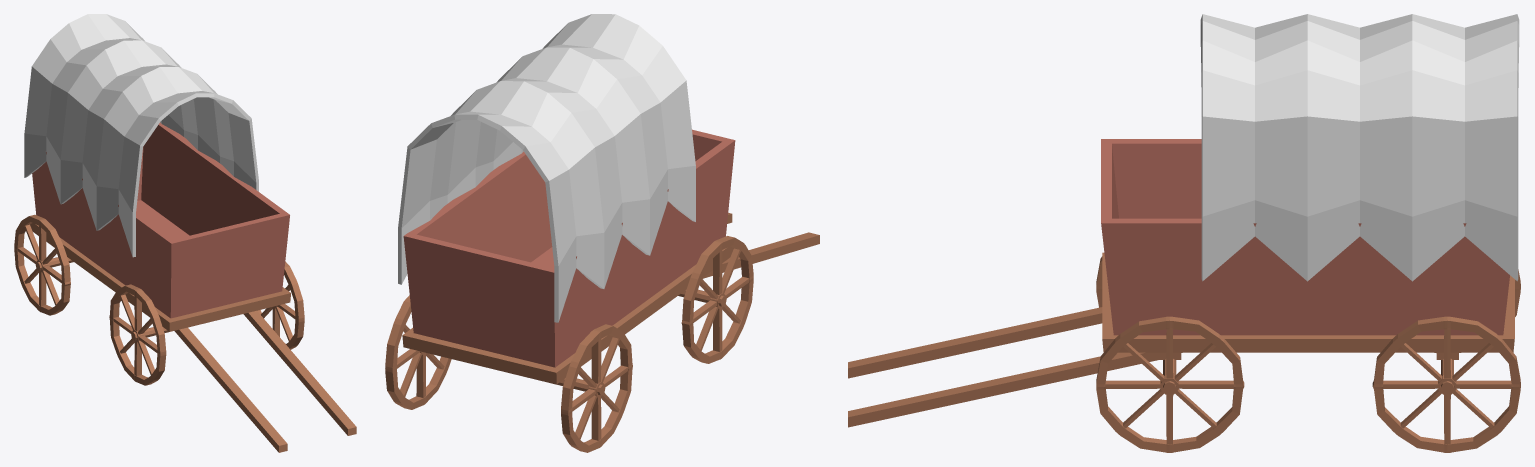
The model's file is Wagon.glb.
3 views of the same model, side by side, from view 1: azimuth 30°, elevation 25°; view 2: azimuth 150°, elevation 25°; view 3: azimuth 270°, elevation 25° (orthographic). The views are drawn at different scales.
Visible parts, largest first — view 1: Wagon, Plane, Wheels; view 2: Plane, Wagon, Wheels; view 3: Plane, Wagon, Wheels.
Part boxes in pixels (x1,y1,x2,y2): Wagon: (30,122,356,452); Plane: (24,14,258,257); Wheels: (14,214,304,385); Plane: (398,14,695,322); Wagon: (402,129,819,395); Wheels: (385,236,753,452); Plane: (1200,14,1519,281); Wagon: (848,139,1514,427); Wheels: (1096,256,1520,452).
Size of what is drawn, in the model's own units: 2.67 by 4.54 by 7.26.
